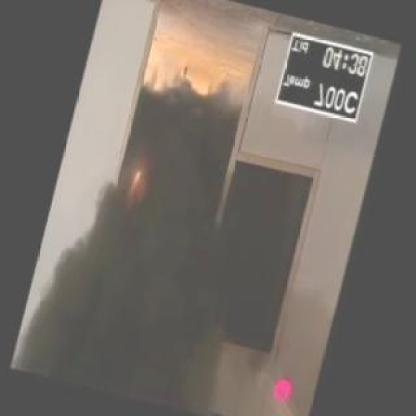Smoke: (17, 79, 334, 415)
